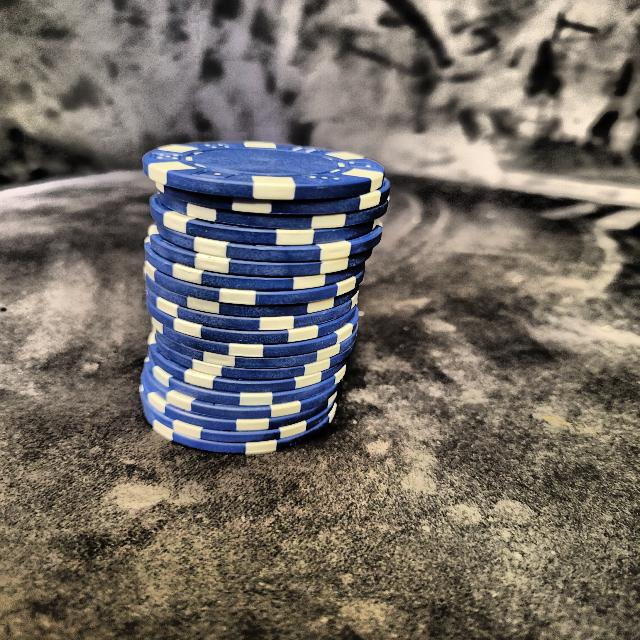Chip: (122, 127, 402, 459)
